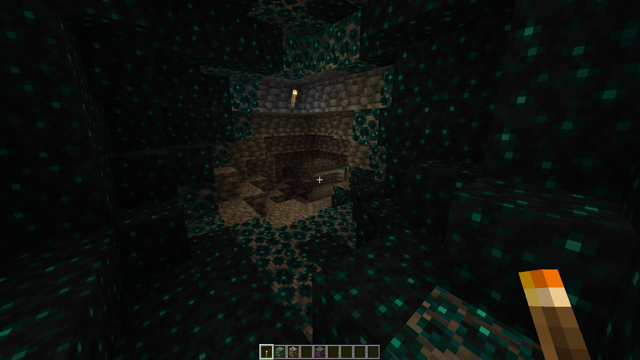redstone: (296, 172, 305, 182)
